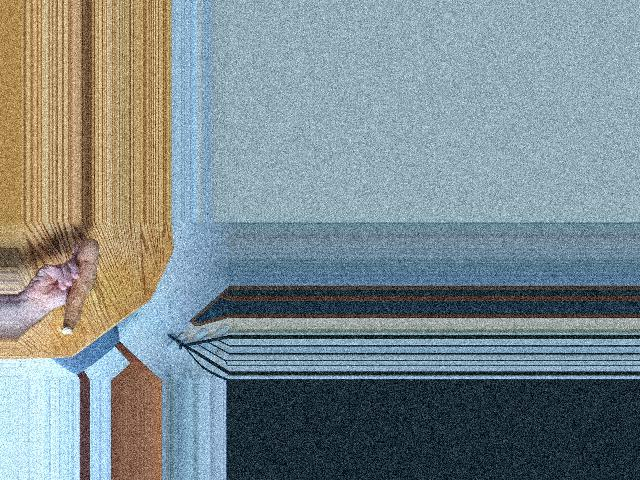sweet_potato: (60, 240, 102, 336)
